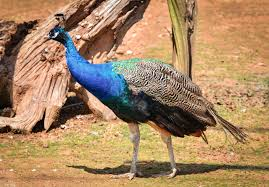Walking: (25, 14, 259, 184)
